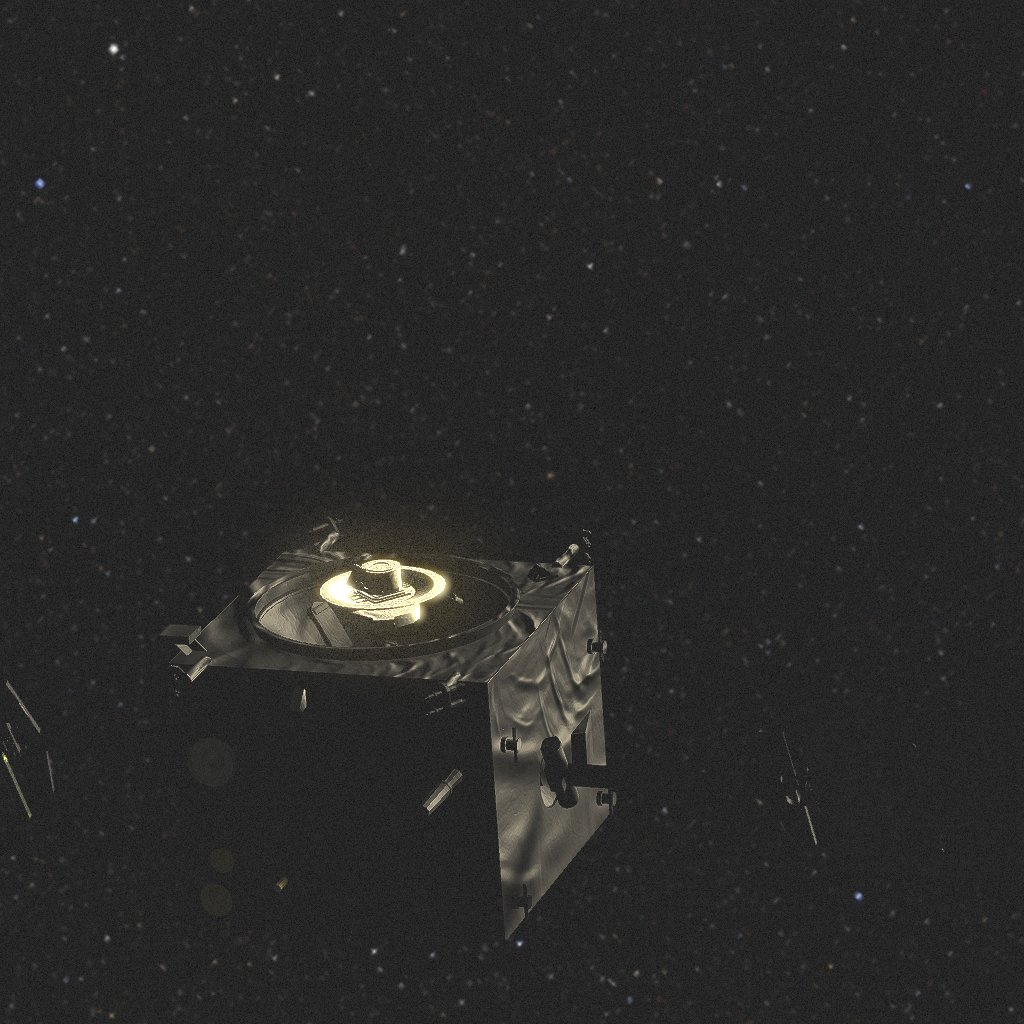smart_1: (0, 516, 1024, 941)
